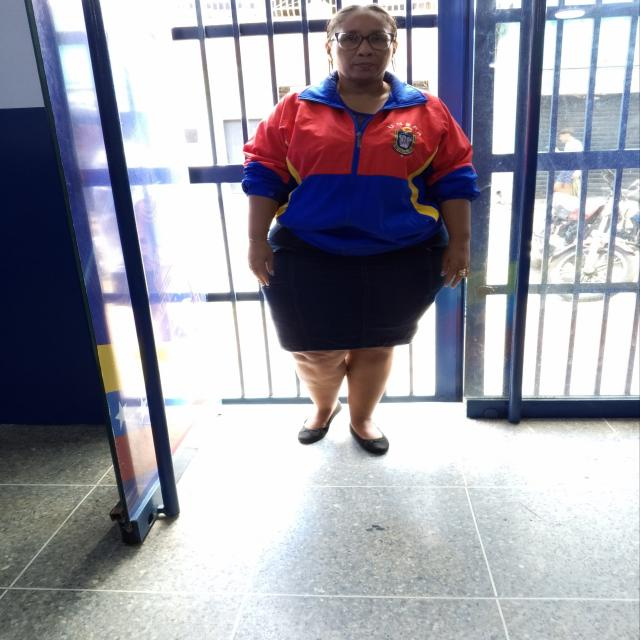chaqueta_unefa: (242, 70, 480, 256)
pantalon_oscuro: (262, 224, 449, 351)
